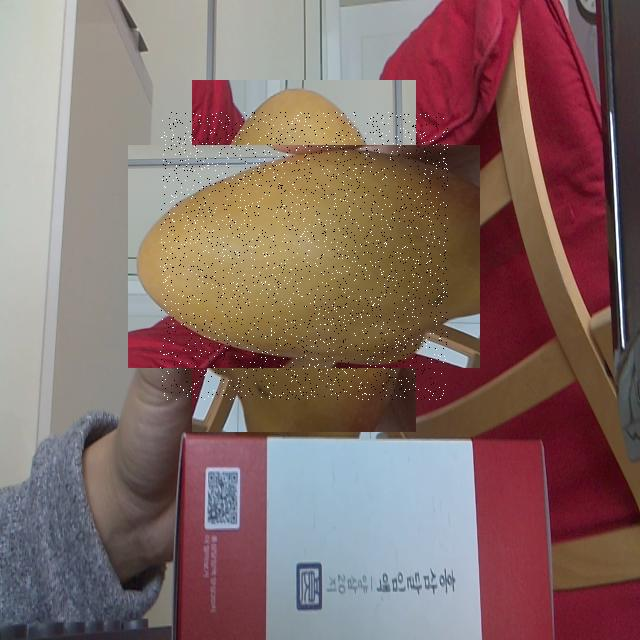pear: (160, 112, 448, 400)
